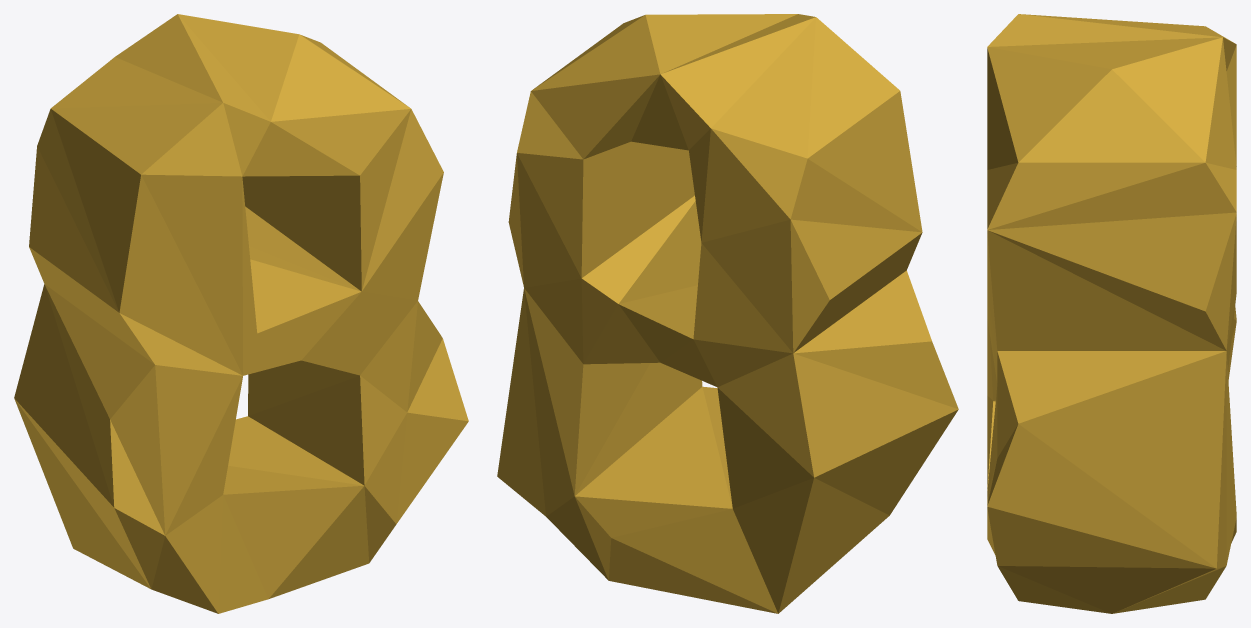
3 renders of one model, left to right at view 1: azimuth 30°, elevation 25°; view 2: azimuth 150°, elevation 25°; view 3: azimuth 270°, elevation 25°, orthographic. The views are drawn at different scales.
Visible parts, largest first — view 1: 8_0057D0_0; view 2: 8_0057D0_0; view 3: 8_0057D0_0.
Boxes of the visible parts, bbox=[...] form: 8_0057D0_0: bbox=[14, 14, 468, 613]; 8_0057D0_0: bbox=[497, 14, 958, 613]; 8_0057D0_0: bbox=[987, 14, 1236, 613].
Size of the model in its own units: 50.9 by 70.94 by 30.
